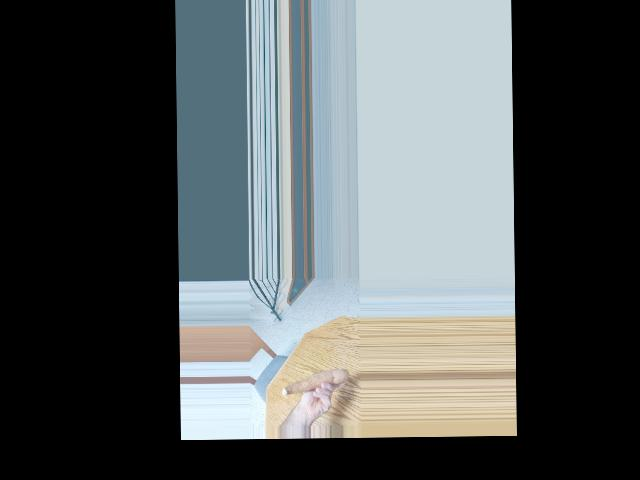sweet_potato: (280, 366, 347, 396)
